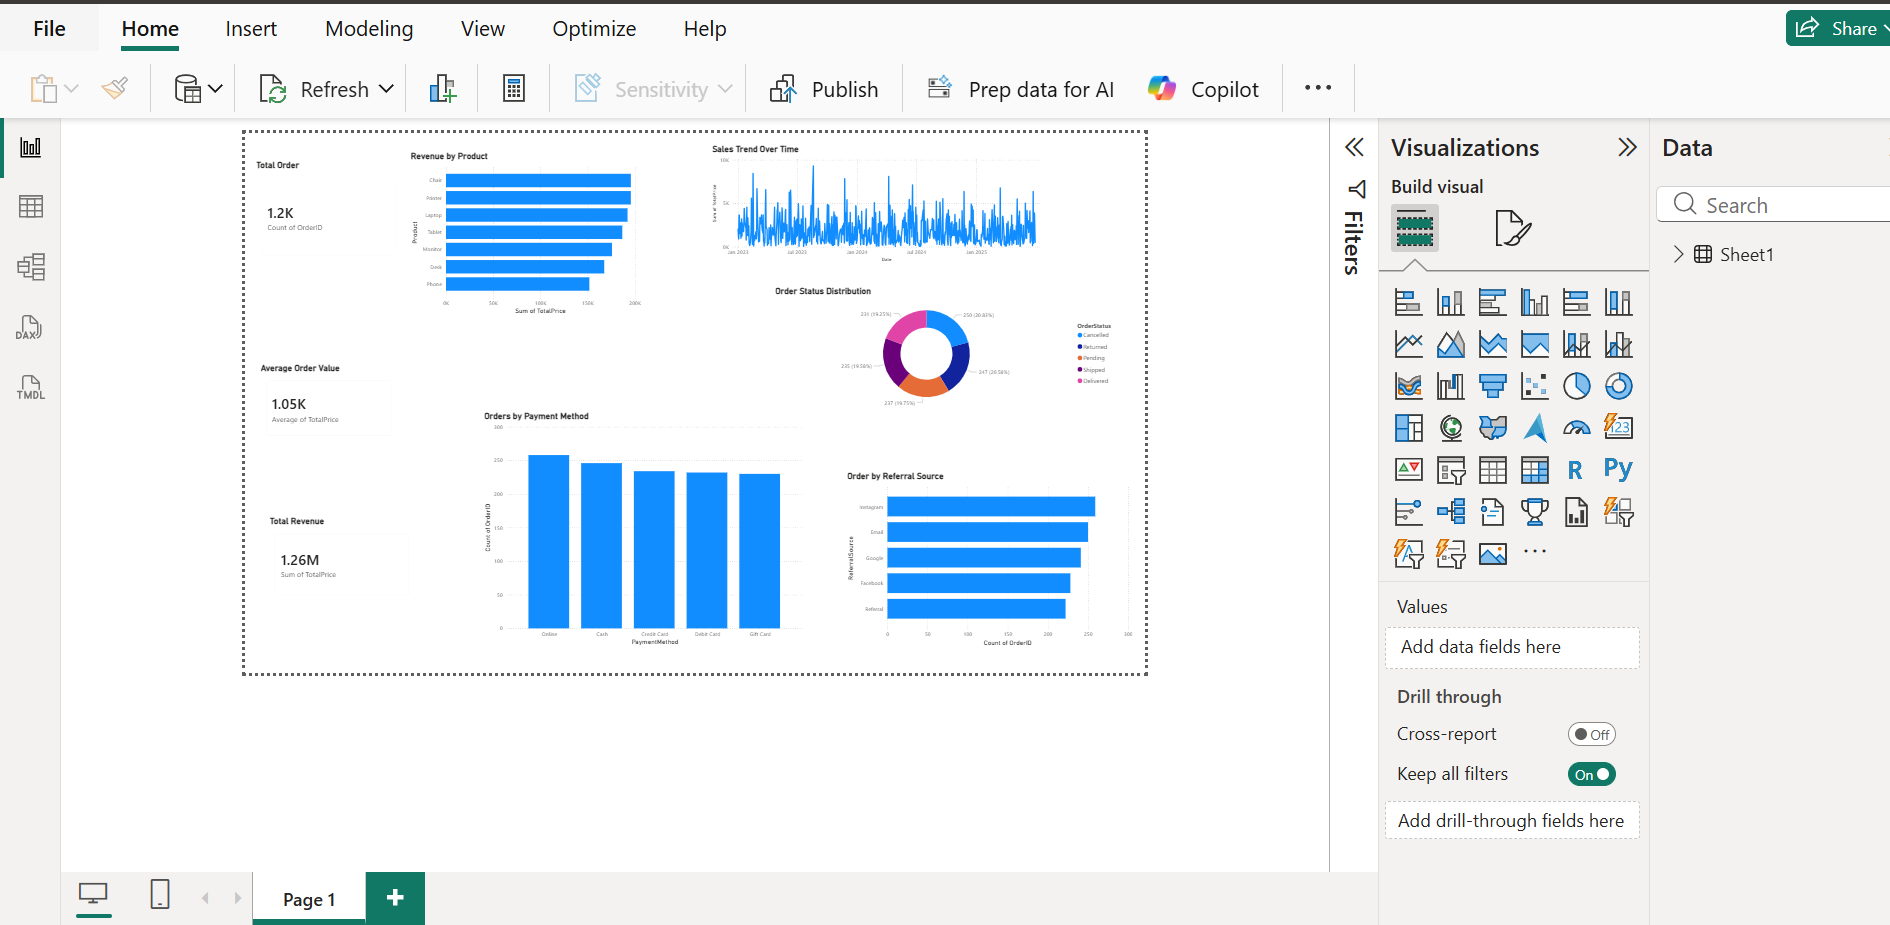

Layout of this report page (visuals, bound fields, positions):
{"tool":"powerbi","page":{"name":"Page 1","canvas":[2000,1200],"ordinal":0},"visuals":[{"type":"cardVisual","title":"Total Order","fields":{"Data":["CountNonNull(Sheet1.OrderID)"]},"box":[19.5,61,331.7,229.3],"z":0},{"type":"cardVisual","title":"Total Revenue","fields":{"Data":["Sum(Sheet1.TotalPrice)"]},"box":[48.8,848.8,331.7,192.7],"z":1000},{"type":"cardVisual","title":"Average Order Value","fields":{"Data":["Avg(Sheet1.TotalPrice)"]},"box":[29.3,509.8,312.2,180.5],"z":2000},{"type":"clusteredBarChart","title":"Revenue by Product","fields":{"Category":["Sheet1.Product"],"Y":["Sum(Sheet1.TotalPrice)"]},"box":[363.4,41.5,522,368.3],"z":3000},{"type":"lineChart","title":"Sales Trend Over Time","fields":{"Y":["Sum(Sheet1.TotalPrice)"],"Category":["Sheet1.Date"]},"box":[1034.1,22,751.2,268.3],"z":4000},{"type":"donutChart","title":" Order Status Distribution","fields":{"Category":["Sheet1.OrderStatus"],"Y":["CountNonNull(Sheet1.OrderID)"]},"box":[1173.2,339,773.2,278],"z":5000},{"type":"columnChart","title":"Orders by Payment Method","fields":{"Category":["Sheet1.PaymentMethod"],"Y":["CountNonNull(Sheet1.OrderID)"]},"box":[526.8,617.1,717.1,526.8],"z":6000},{"type":"barChart","title":"Order by Referral Source","fields":{"Category":["Sheet1.ReferralSource"],"Y":["CountNonNull(Sheet1.OrderID)"]},"box":[1334.1,748.8,643.9,395.1],"z":7000}]}

Visuals, with their boxes on the page's 2000x1200 design canvas (x1, y1, x2, y2). These are canvas units, not pixel positions in the 1890x925 screenshot, which may show the page scaled, cropped or inside an application window:
"Total Order" cardVisual: detection(20, 61, 351, 290)
"Total Revenue" cardVisual: detection(49, 849, 380, 1042)
"Average Order Value" cardVisual: detection(29, 510, 342, 690)
"Revenue by Product" clusteredBarChart: detection(363, 42, 885, 410)
"Sales Trend Over Time" lineChart: detection(1034, 22, 1785, 290)
" Order Status Distribution" donutChart: detection(1173, 339, 1946, 617)
"Orders by Payment Method" columnChart: detection(527, 617, 1244, 1144)
"Order by Referral Source" barChart: detection(1334, 749, 1978, 1144)
